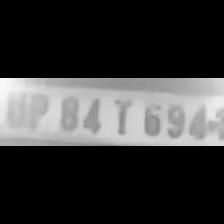4: (78, 92, 106, 134), (188, 100, 210, 140)
6: (137, 99, 163, 138)
8: (52, 92, 80, 132)
9: (162, 100, 186, 138)
T: (106, 94, 136, 136)
